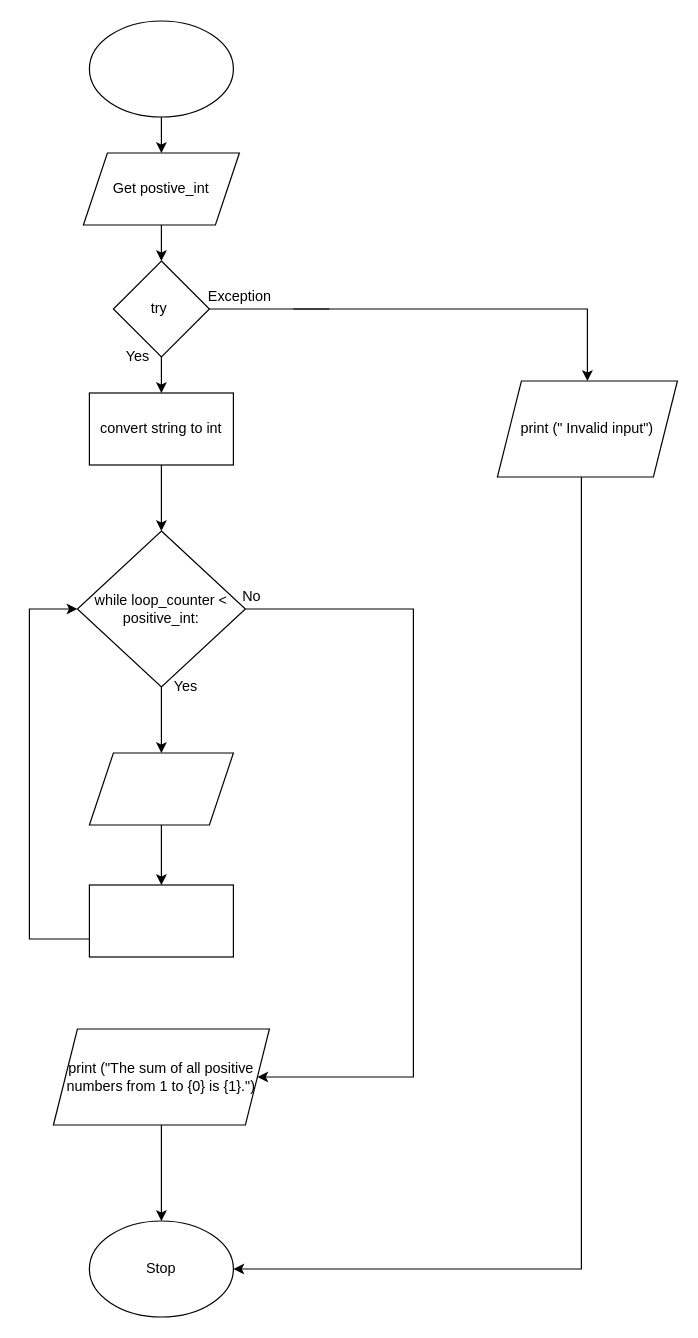
The diagram is 698 pixels wide and 1338 high, and some of its shapes have lost their labels. The centre of each missing label's shape, as x and y in pixels:
"loop_counter = loop_counter + 1" goes at (160,920).
"Start" goes at (160,68).
"total = total + loop_counter" goes at (160,788).
